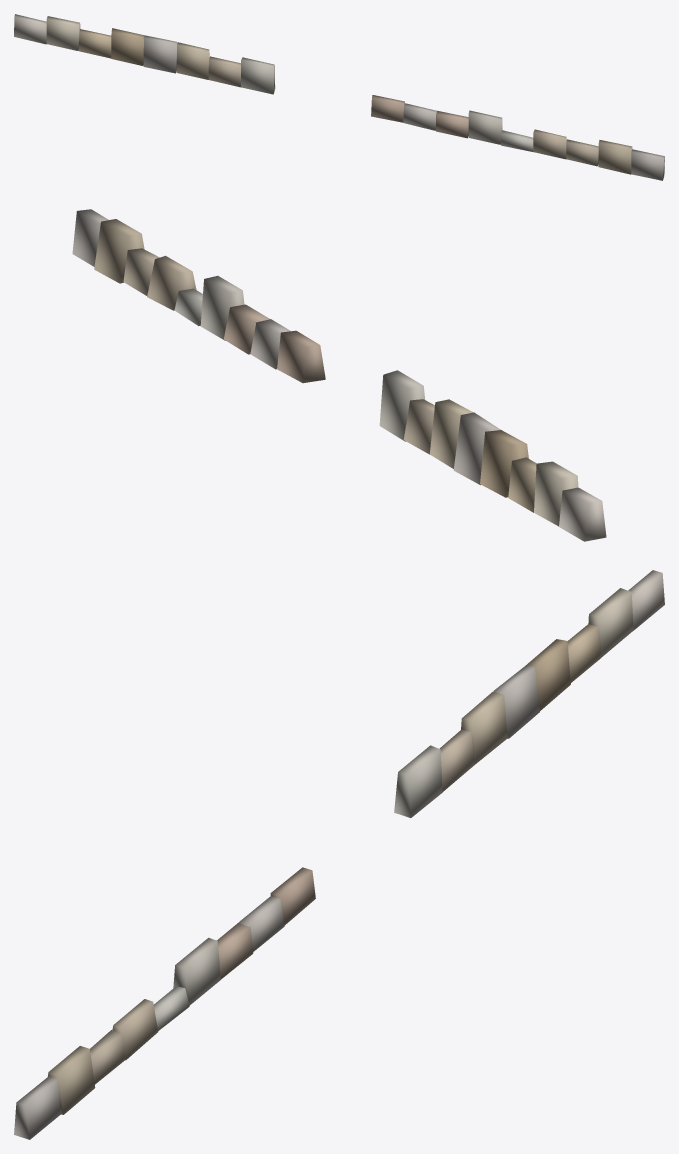
The model's file is farm_-24_-20_far.glb.
3 views of the same model, one above another, from view 1: azimuth 30°, elevation 25°; view 2: azimuth 150°, elevation 25°; view 3: azimuth 270°, elevation 25° (orthographic). The views are drawn at different scales.
Visible parts, largest first — view 1: geometry_0; view 2: geometry_0; view 3: geometry_0.
Boxes of the visible parts, x1,y1,x2,y2 form: geometry_0: (14, 14, 664, 180); geometry_0: (72, 209, 606, 541); geometry_0: (14, 570, 664, 1139).
Size of the model in its own units: 25.61 by 6.89 by 19.46.
